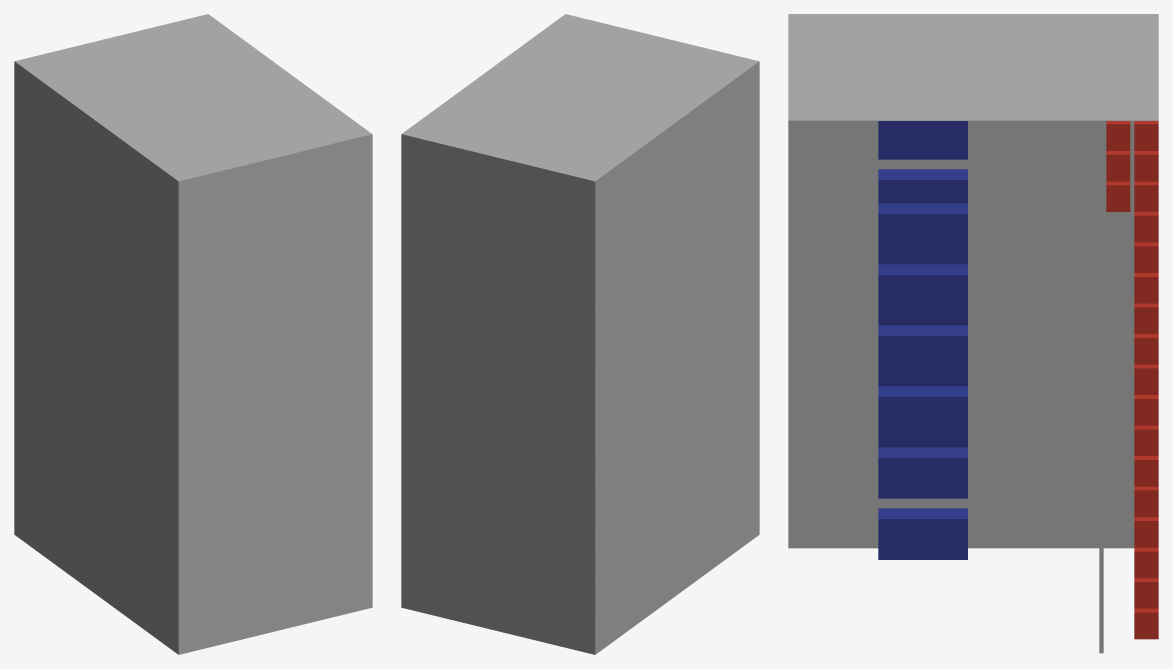
File: Mini Grid POD v2.fbx
The picture shows the model from 3 angles, left to right: view 1: azimuth 30°, elevation 25°; view 2: azimuth 150°, elevation 25°; view 3: azimuth 270°, elevation 25°; orthographic projection. The views are drawn at different scales.
Parts seen in each view (by area): view 1: Body6, Body4, Body2; view 2: Body1, Body4, Body2; view 3: Body4, Body2, Body84, Body85, Body86, Body87, Body88, Body89, Body81, Body80, Body75, Body76 (+23 smaller).
Boxes of the visible parts, x1,y1,x2,y2 form: Body6: [178, 134, 372, 654]; Body4: [14, 61, 178, 654]; Body2: [14, 14, 371, 181]; Body1: [401, 134, 595, 654]; Body4: [595, 62, 759, 654]; Body2: [401, 14, 758, 181]; Body4: [788, 121, 1134, 548]; Body2: [788, 14, 1158, 120]; Body84: [878, 203, 967, 254]; Body85: [878, 264, 967, 315]; Body86: [878, 325, 967, 376]; Body87: [878, 386, 967, 437]; Body88: [878, 447, 967, 498]; Body89: [878, 508, 967, 559]; Body81: [878, 121, 967, 159]; Body80: [878, 169, 967, 203]; Body75: [1099, 121, 1103, 653]; Body76: [878, 437, 967, 447].
Size of the model in its own units: 90 by 210 by 132.
